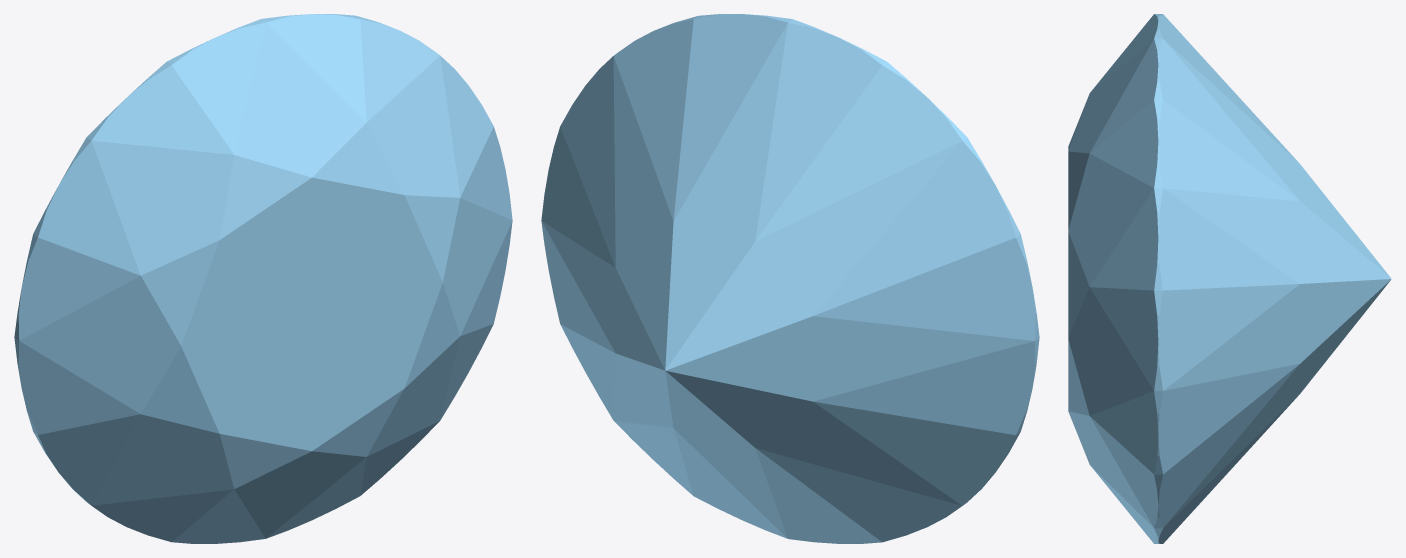
File: lucille.glb
3 views of the same model, side by side, from view 1: azimuth 30°, elevation 25°; view 2: azimuth 150°, elevation 25°; view 3: azimuth 270°, elevation 25° (orthographic). The views are drawn at different scales.
Visible parts, largest first — view 1: Lucille; view 2: Lucille; view 3: Lucille.
Part boxes in pixels (bbox=[...]): Lucille: bbox=[14, 14, 512, 543]; Lucille: bbox=[541, 14, 1039, 543]; Lucille: bbox=[1068, 14, 1391, 543].
Size of the model in its own units: 2.12 by 2.12 by 1.3.
